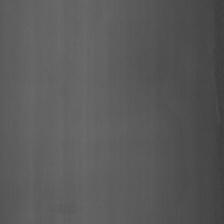silk_spot: (57, 195, 80, 215)
